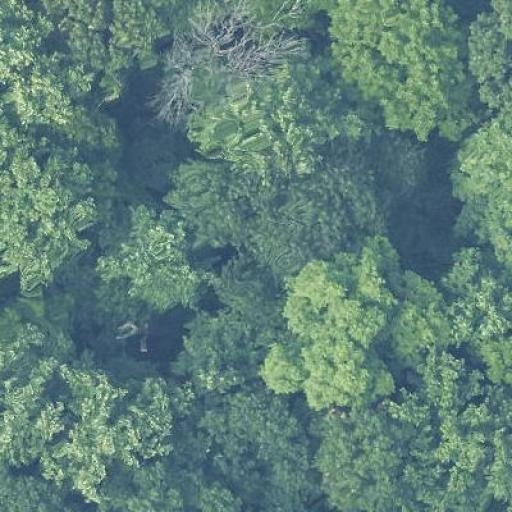tree-top: (0, 356, 193, 488), (267, 246, 420, 411), (325, 0, 493, 142), (177, 156, 374, 270), (194, 51, 356, 181), (0, 134, 105, 288), (105, 196, 218, 312), (54, 0, 173, 99), (163, 0, 294, 89), (310, 399, 414, 511), (436, 110, 510, 264), (202, 382, 306, 488), (425, 356, 496, 474), (433, 241, 512, 341), (6, 48, 92, 130), (177, 299, 267, 375), (467, 0, 511, 114), (0, 469, 70, 512)
